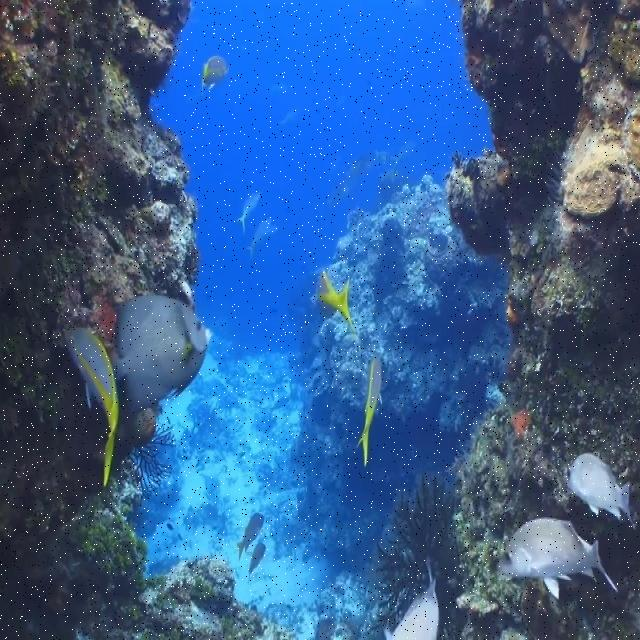aquatic plants: (366, 470, 467, 637)
fish: (110, 296, 209, 414), (497, 518, 620, 599), (65, 328, 123, 490), (563, 451, 636, 526), (384, 555, 440, 639), (356, 356, 383, 472), (316, 271, 354, 322), (244, 215, 278, 261), (234, 191, 264, 237), (236, 515, 264, 563), (200, 56, 232, 92), (247, 542, 266, 575)
sea-floor: (0, 0, 297, 639), (446, 0, 639, 639)
